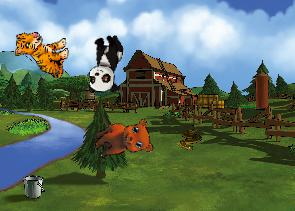bear: (89, 111, 158, 172)
panda: (86, 32, 124, 95)
tiger: (13, 30, 70, 78)
